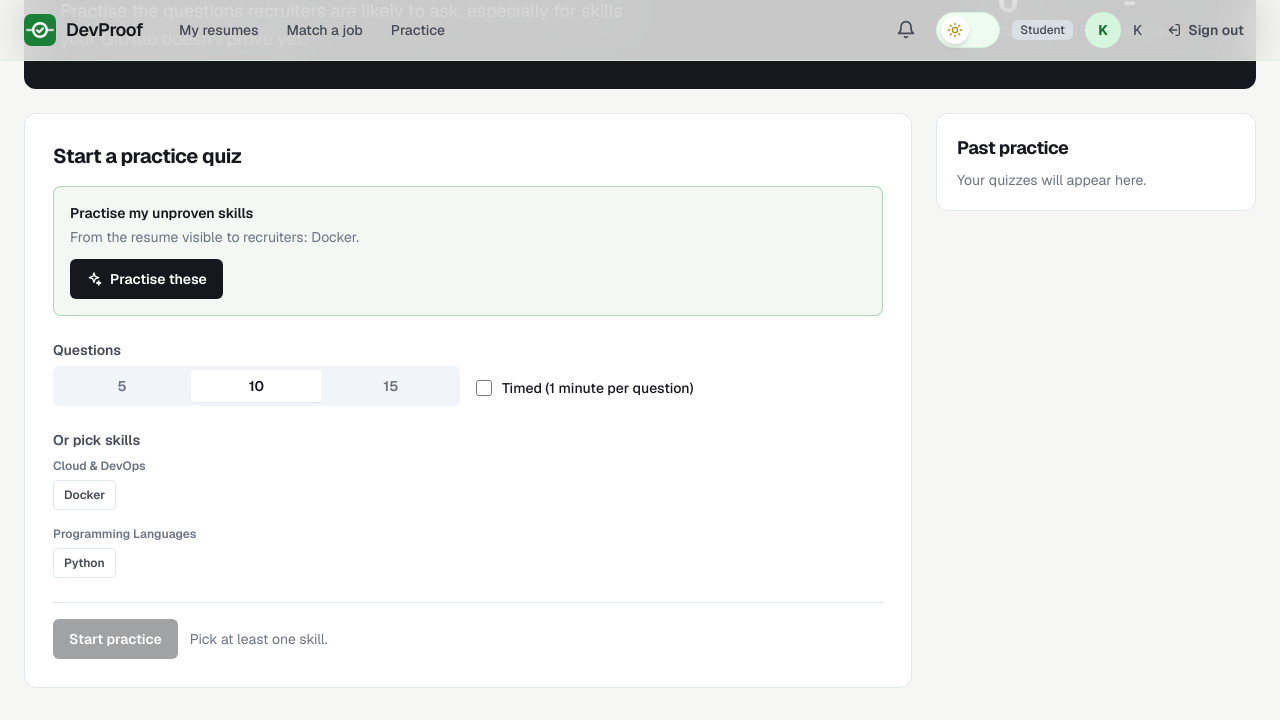
Scenario: Practice page › needs at least one skill picked to start
(page scrolled)
expect the button "Start practice" is disabled: met, box top-left (53, 619), bottom-right (178, 659)
Click the button "Python".
click(84, 563)  # box top-left (53, 548), bottom-right (116, 578)
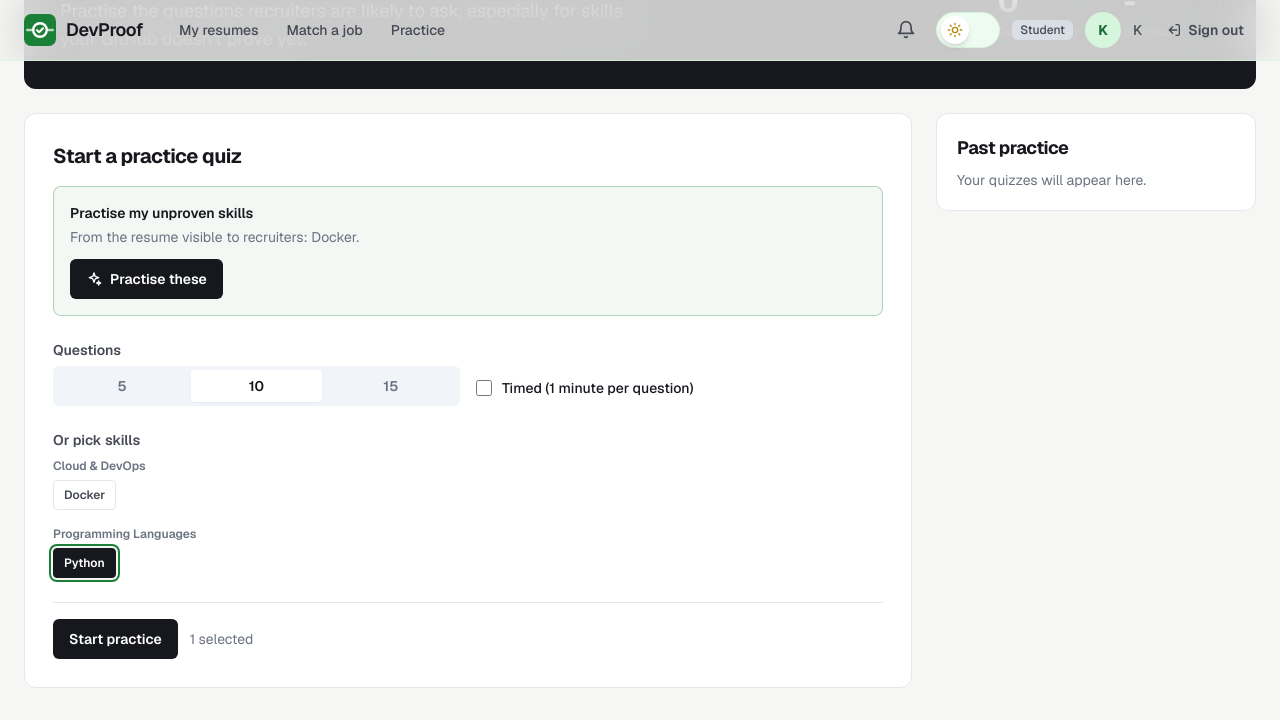
expect the button "Start practice" is enabled: met, box top-left (53, 619), bottom-right (178, 659)
